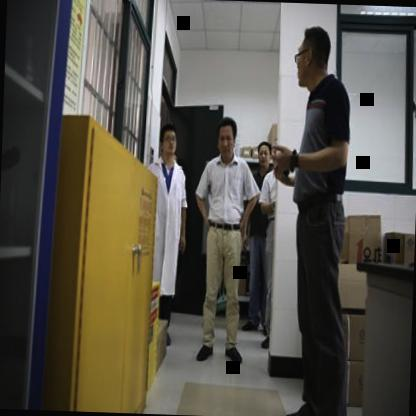head: (292, 21, 334, 91), (213, 115, 238, 163), (158, 120, 183, 164), (256, 138, 273, 172)
